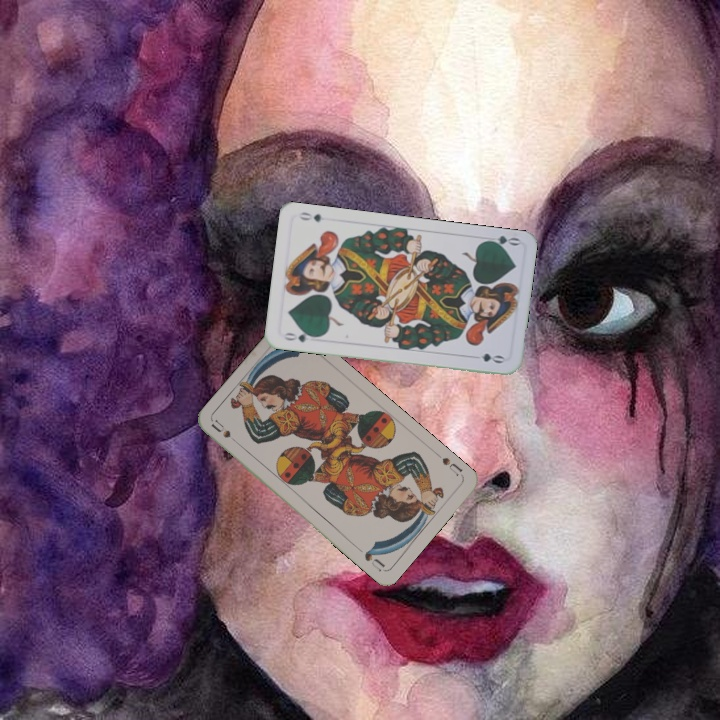GO: (481, 231, 522, 251), (279, 328, 320, 345)
SU: (207, 416, 234, 441), (438, 453, 465, 478)
